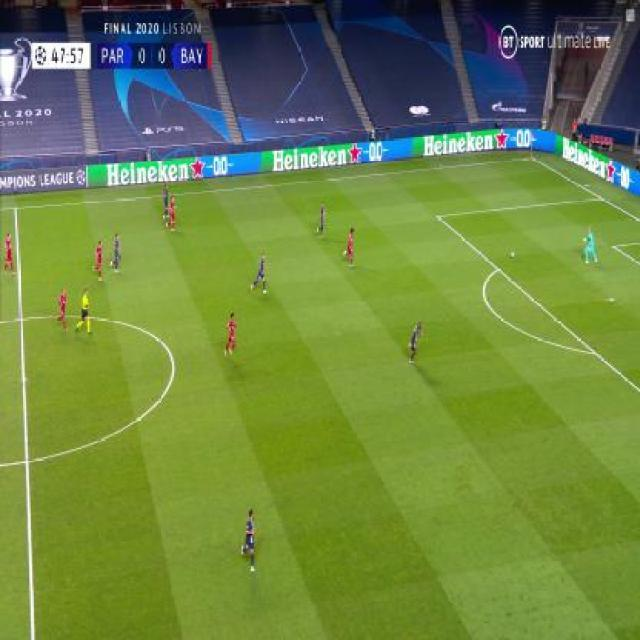ball: (510, 250, 515, 258)
player: (240, 508, 259, 574), (406, 319, 425, 364), (76, 288, 93, 336), (251, 252, 270, 294), (224, 311, 238, 359), (582, 225, 599, 264), (341, 226, 357, 266), (3, 231, 16, 277), (55, 288, 68, 333), (110, 232, 123, 274), (92, 238, 105, 280), (316, 200, 327, 239), (166, 195, 177, 231), (160, 185, 171, 221)
